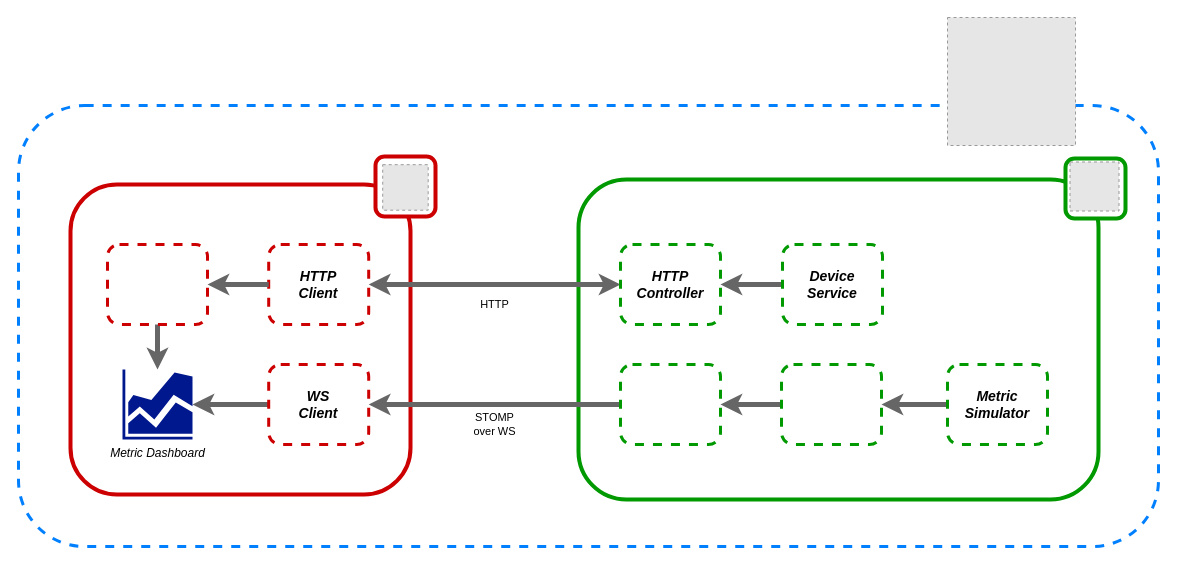
The diagram is 1177 pixels wide and 565 high, and some of its shapes have lost their labels. Grey dashed boxes stand in for pictures. Each missing label, with the centre of its shape:
Metric Event Service: pixel 831 404
Setup component: pixel 157 284
WS Controller: pixel 670 404
